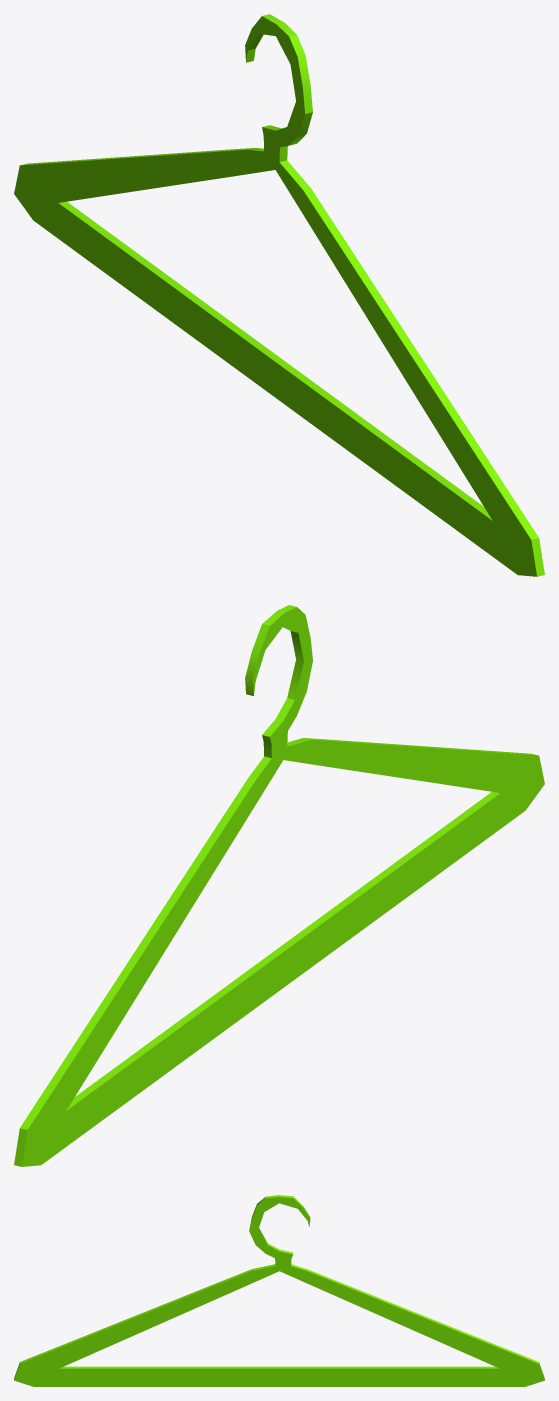
File: Hanger_G.FBX
3 views of the same model, one above another, from view 1: azimuth 30°, elevation 25°; view 2: azimuth 150°, elevation 25°; view 3: azimuth 270°, elevation 25° (orthographic). The views are drawn at different scales.
Parts seen in each view (by area): view 1: Hanger; view 2: Hanger; view 3: Hanger.
Part boxes in pixels (box(x1,y1,x2,y2)): Hanger: box(14, 14, 544, 576); Hanger: box(14, 605, 544, 1166); Hanger: box(14, 1195, 544, 1386).
Bounding box in the file's own units: 1.01 × 45.57 × 115.
